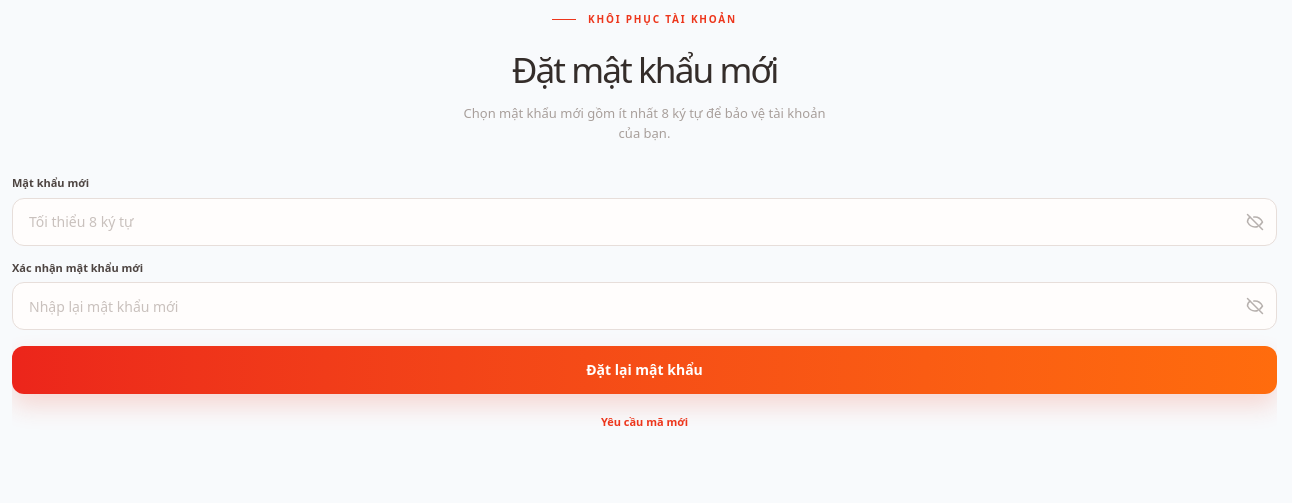
it: ResetPasswordPanel › keeps the form available when the reset token is rejected
The image size is (1292, 503).
Type "new-password" into the password field labelled "Mật khẩu mới" at x=644, y=222, box [12, 198, 1277, 246]
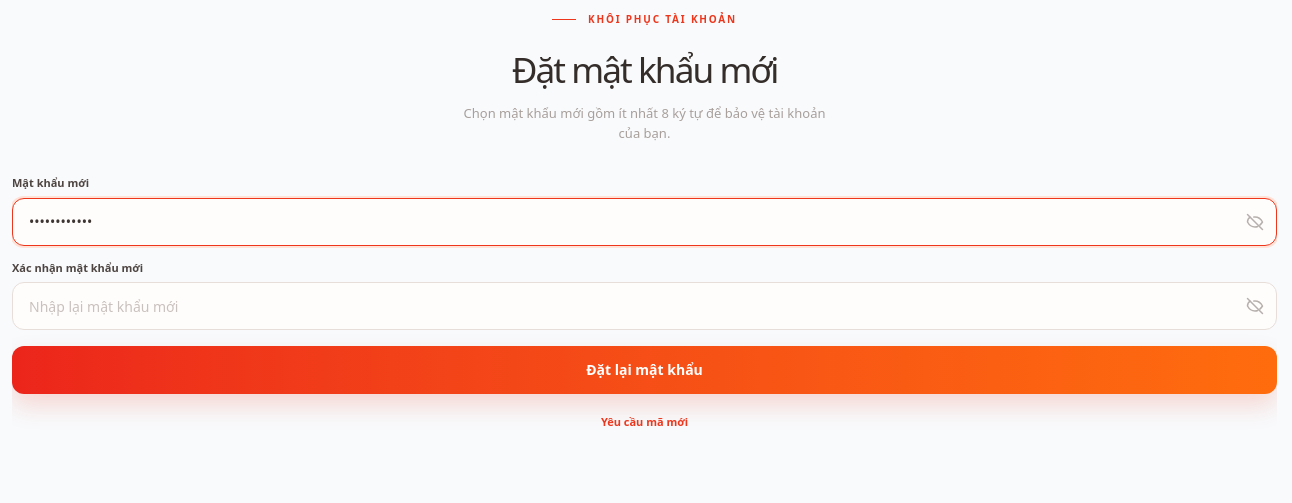
Type "new-password" into the password field labelled "Xác nhận mật khẩu mới" at x=644, y=306, box [12, 282, 1277, 330]
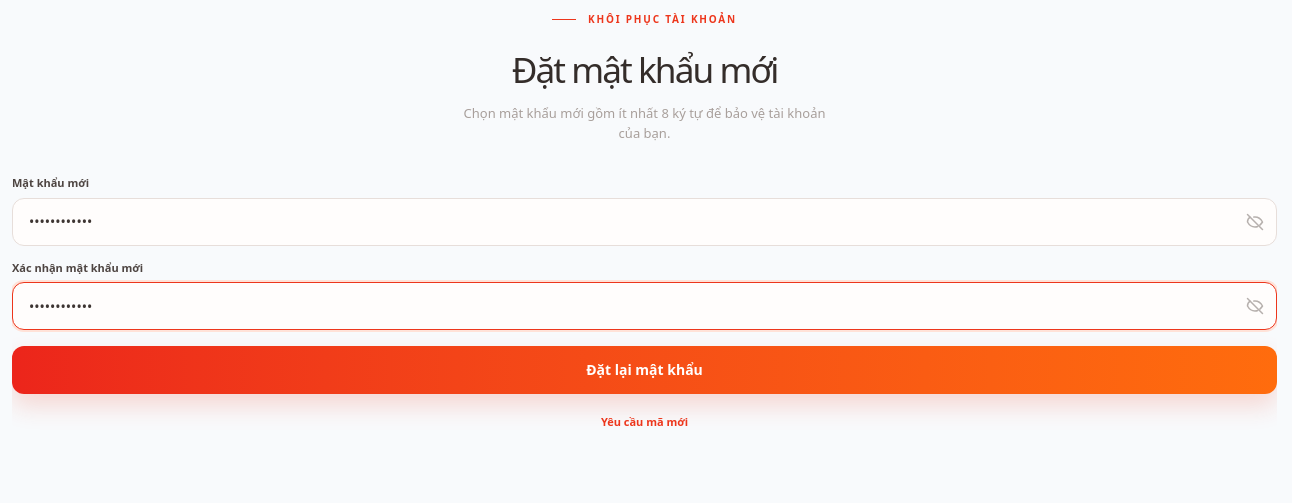
Click the button "Đặt lại mật khẩu" at x=644, y=370, box [12, 346, 1277, 394]
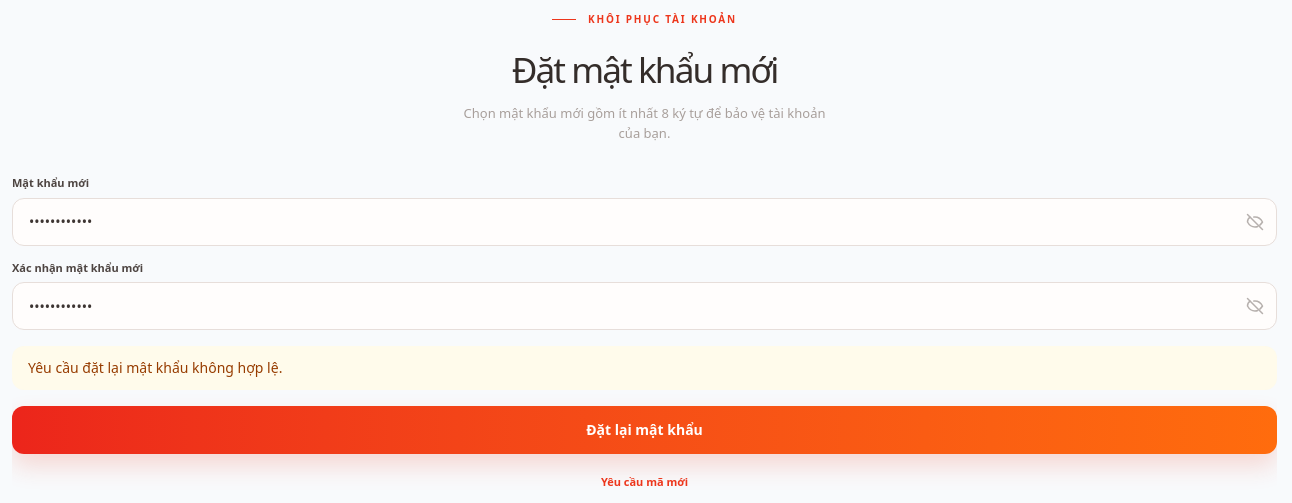
expect the button "Đặt lại mật khẩu" is shown: met, box [12, 406, 1277, 454]
expect the text "Yêu cầu đặt lại mật khẩu không hợp lệ." is shown: met, box [12, 346, 1277, 390]
